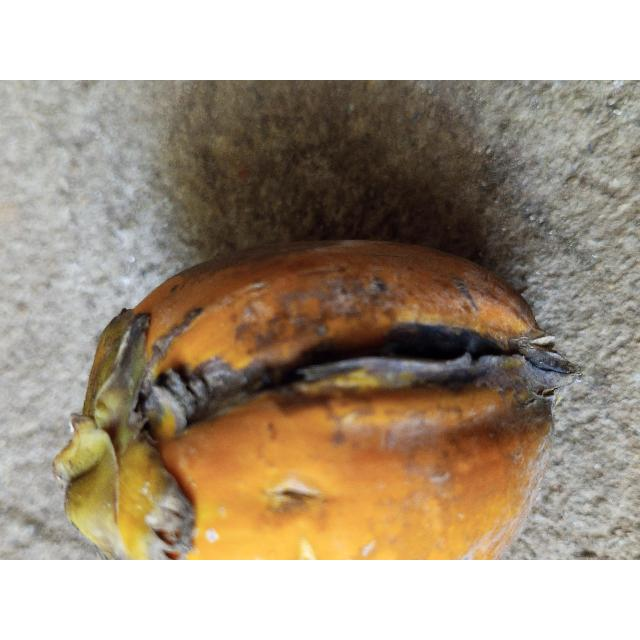damaged: (54, 241, 576, 560)
